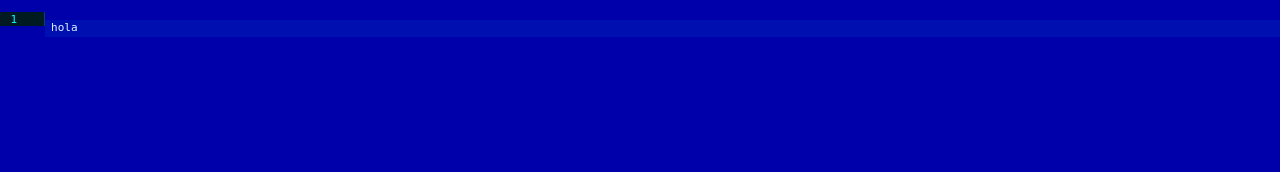
Scenario: CodeEditor › la edición IA muestra el error del proveedor (p. ej. falta API key)
This screenshot has width=1280, height=172.
Press k in the field labelled "hola", box top-left (45, 20), bottom-right (1279, 36)
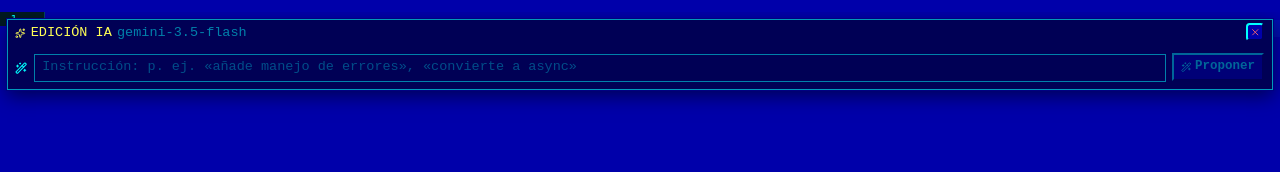
Replace the text in the field with test id "editor-inline-input" with "mejora" at point(600, 68), box top-left (34, 54), bottom-right (1166, 82)
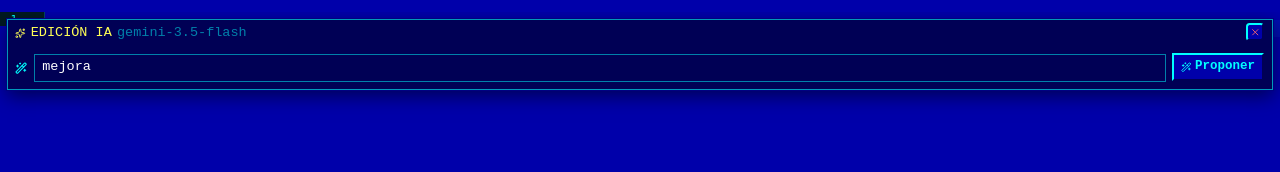
Press Enter in the field with test id "editor-inline-input", box top-left (34, 54), bottom-right (1166, 82)
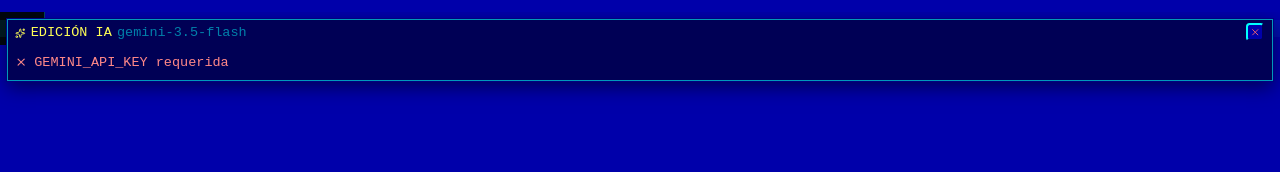
Now the element with test id "editor-inline-error" is shown, box top-left (15, 55), bottom-right (229, 70)
Now the element with test id "editor-inline-error" shows "GEMINI_API_KEY", box top-left (34, 55), bottom-right (229, 70)
